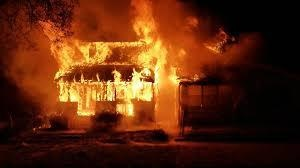fire: (46, 3, 184, 121)
